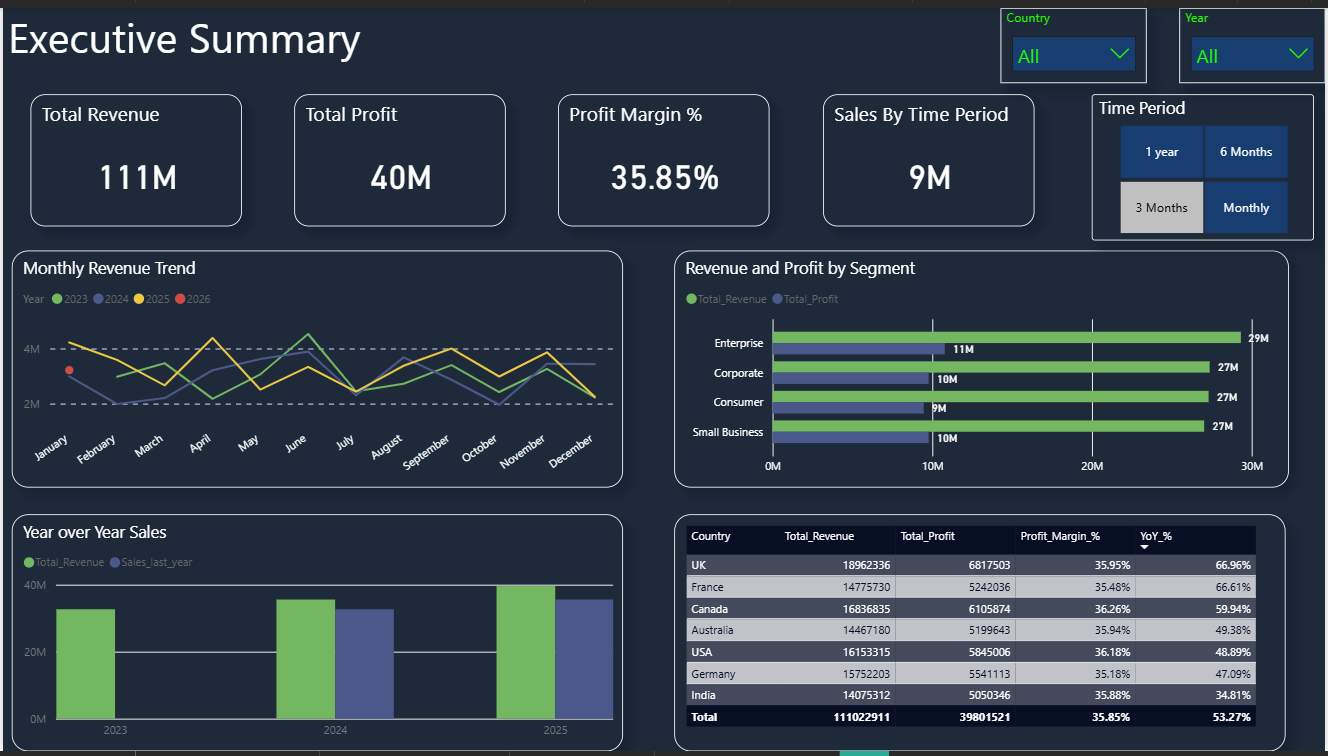

What the dashboard file says about the page in this screenshot:
{"tool":"powerbi","page":{"name":"Executive Summary","canvas":[1280,720],"ordinal":0},"visuals":[{"type":"slicer","title":"Year","fields":{"Values":["Dim_Date.Year"]},"box":[1139.1,0,141.6,72.6],"z":0},{"type":"card","title":"Total Profit","fields":{"Values":["_Measures.Total_Profit"]},"box":[282,83.5,204.6,128.3],"z":0},{"type":"clusteredBarChart","title":"Revenue and Profit by Segment","fields":{"Category":["Dim_Segment.Segment"],"Y":["_Measures.Total_Revenue","_Measures.Total_Profit"]},"box":[650.1,234.8,595.6,230],"z":0,"group":"g1"},{"type":"slicer","title":"Country","fields":{"Values":["Dim_Country.Country"]},"box":[966,0,141.6,72.6],"z":1000},{"type":"card","title":"Total Revenue","fields":{"Values":["_Measures.Total_Revenue"]},"box":[26.6,83.5,204.6,128.3],"z":1000},{"type":"lineChart","title":"Monthly Revenue Trend","fields":{"Y":["_Measures.Total_Revenue"],"Series":["Dim_Date.Year"],"Category":["Dim_Date.Month Name"]},"box":[8.5,234.8,591.9,230],"z":1000,"group":"g1"},{"type":"textbox","title":"Executive Summary","box":[0,0,401.9,55.7],"z":2000},{"type":"card","title":"Profit Margin %","fields":{"Values":["_Measures.Profit_Margin_%"]},"box":[537.5,83.5,204.6,128.3],"z":2000},{"type":"card","title":"Sales By Time Period","fields":{"Values":["_Measures.Sales_by_period"]},"box":[794.1,83.5,204.6,128.3],"z":3000},{"type":"group","id":"g1","title":"Group 2","box":[8.5,234.8,1237.1,230],"z":4000},{"type":"clusteredColumnChart","title":"Year over Year Sales","fields":{"Category":["Dim_Date.Year"],"Y":["_Measures.Total_Revenue","_Measures.Sales_last_year"]},"box":[8.5,490.3,591.9,230],"z":5000},{"type":"tableEx","fields":{"Values":["Dim_Country.Country","_Measures.Total_Revenue","_Measures.Total_Profit","_Measures.Profit_Margin_%","_Measures.YoY_%"]},"box":[650,490.3,591.9,230],"z":6000},{"type":"slicer","title":"Time Period","fields":{"Values":["Metric.Time_period"]},"box":[1054.3,83.5,215.5,141.6],"z":6001}]}

Visuals, with their boxes in screenshot pixels (x1, y1, x2, y2), scaled from the page's 1280x720 canvas onto the 1328x756 screenshot:
"Year" slicer: 1182 0 1327 76
"Total Profit" card: 293 88 505 222
"Revenue and Profit by Segment" clusteredBarChart: 674 247 1292 488
"Country" slicer: 1002 0 1149 76
"Total Revenue" card: 28 88 240 222
"Monthly Revenue Trend" lineChart: 9 247 623 488
"Executive Summary" textbox: 0 0 417 58
"Profit Margin %" card: 558 88 770 222
"Sales By Time Period" card: 824 88 1036 222
"Group 2" group: 9 247 1292 488
"Year over Year Sales" clusteredColumnChart: 9 515 623 755
tableEx - Dim_Country.Country x _Measures.Total_Revenue: 674 515 1288 755
"Time Period" slicer: 1094 88 1317 236
